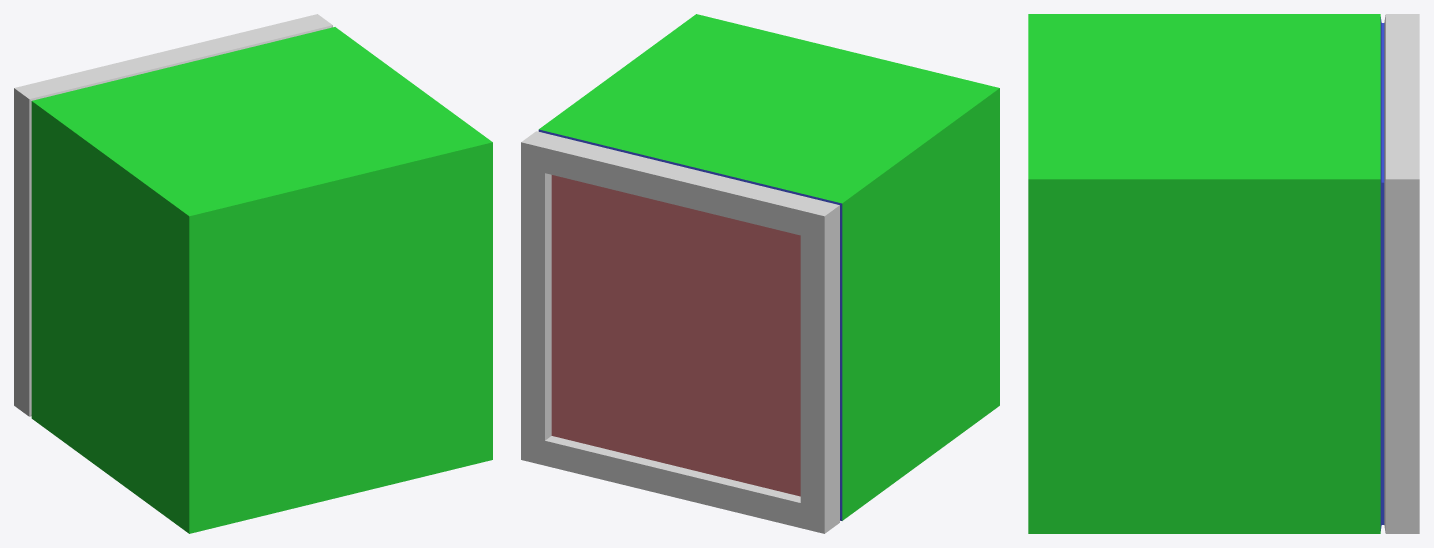
The model's file is Server Cabinet.fbx.
3 renders of one model, left to right at view 1: azimuth 30°, elevation 25°; view 2: azimuth 150°, elevation 25°; view 3: azimuth 270°, elevation 25°, orthographic. The views are drawn at different scales.
Parts seen in each view (by area): view 1: Case, Door; view 2: Door, Case; view 3: Case, Door.
Boxes of the visible parts, bbox=[...] form: Case: bbox=[31, 27, 492, 533]; Door: bbox=[14, 14, 332, 416]; Door: bbox=[521, 129, 842, 533]; Case: bbox=[539, 14, 999, 520]; Case: bbox=[1028, 14, 1380, 533]; Door: bbox=[1380, 14, 1419, 533].
Size of the model in its own units: 200 by 200 by 200.
